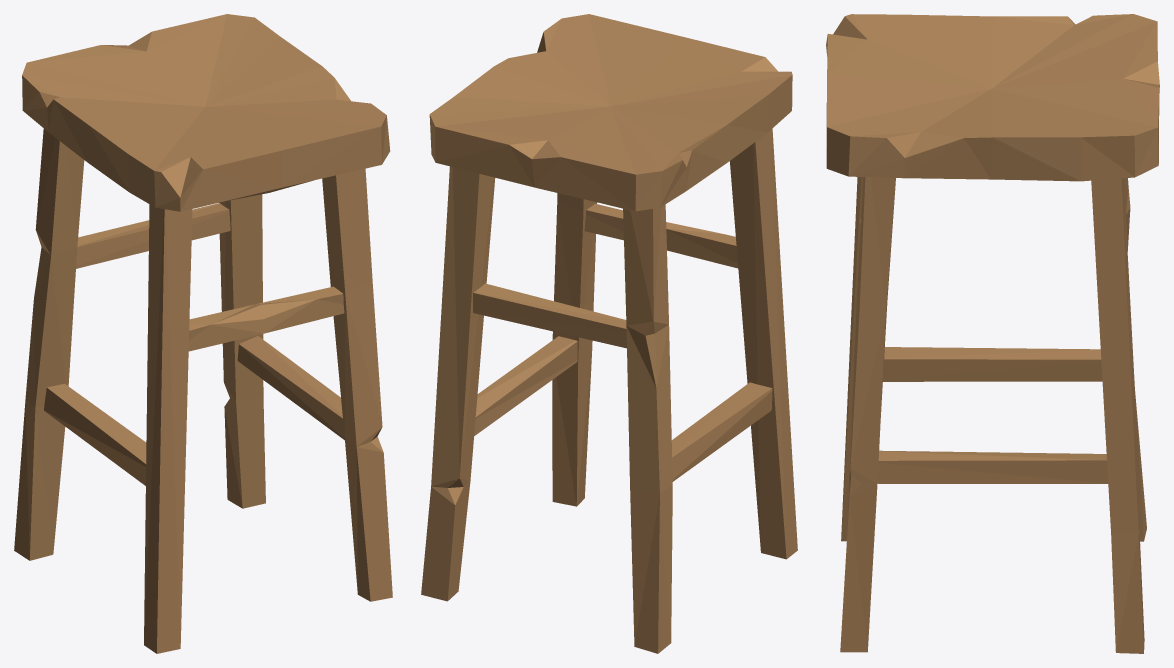
File: SFM_TP_Stool.fbx
The picture shows the model from 3 angles, left to right: view 1: azimuth 30°, elevation 25°; view 2: azimuth 150°, elevation 25°; view 3: azimuth 270°, elevation 25°; orthographic projection. The views are drawn at different scales.
Visible parts, largest first — view 1: SFM_TP_Stool; view 2: SFM_TP_Stool; view 3: SFM_TP_Stool.
Part boxes in pixels (x1,y1,x2,y2): SFM_TP_Stool: (14,14,392,653); SFM_TP_Stool: (421,14,797,653); SFM_TP_Stool: (826,14,1159,653).
Size of the model in its own units: 35.21 by 67.54 by 39.59.
